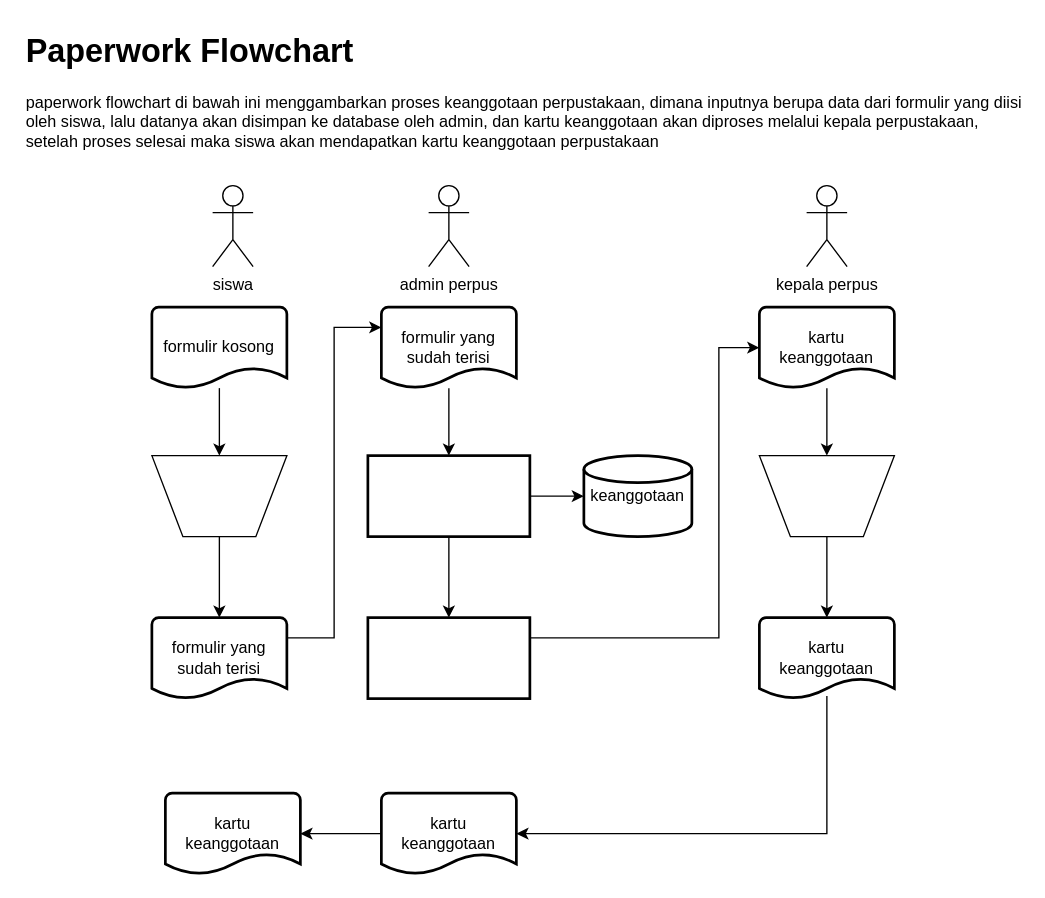
The diagram is 1045 pixels wide and 898 high, and some of its shapes have lost their labels. The box of each missing label's shape, as (x1, y1, x2, y2) in pixels:
proses kartu keanggotaan: (366, 616, 531, 699)
simpan data: (366, 454, 531, 537)
siswa mengisi formulir: (151, 454, 287, 537)
ttd kartu anggota oleh kepala perpus: (758, 454, 894, 537)
